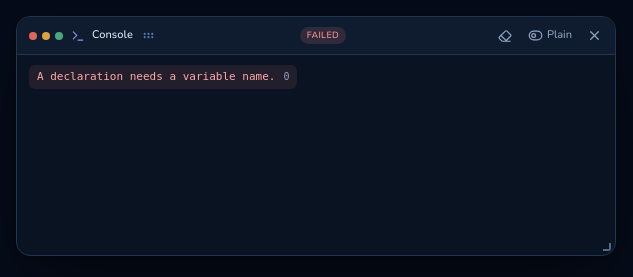
reset clears the console and returns it to ready
This screenshot has width=633, height=277.
Click the button named "Reset console".
click(505, 36)  # box [491,22,519,50]
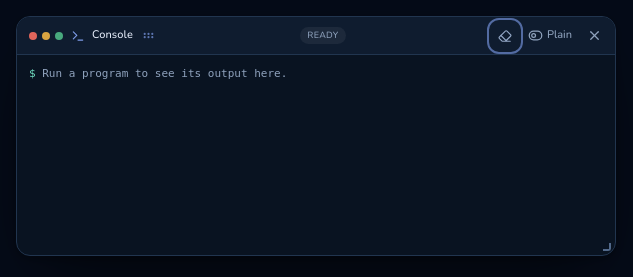
Expected: the text "$ Run a program to see its output here." is shown, [29,67,287,80]
